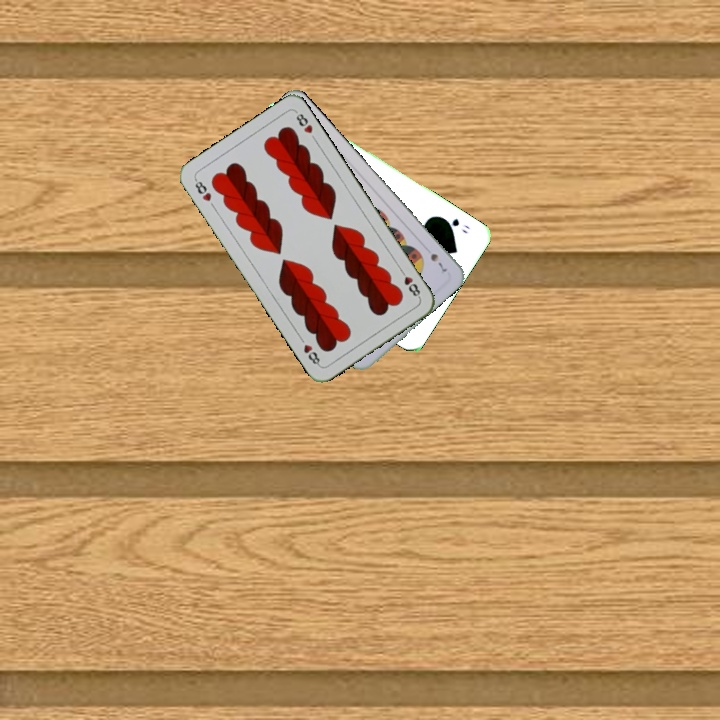GO: (438, 213, 472, 236)
H8: (396, 265, 423, 301), (190, 175, 214, 204)
S7: (426, 249, 449, 275)
